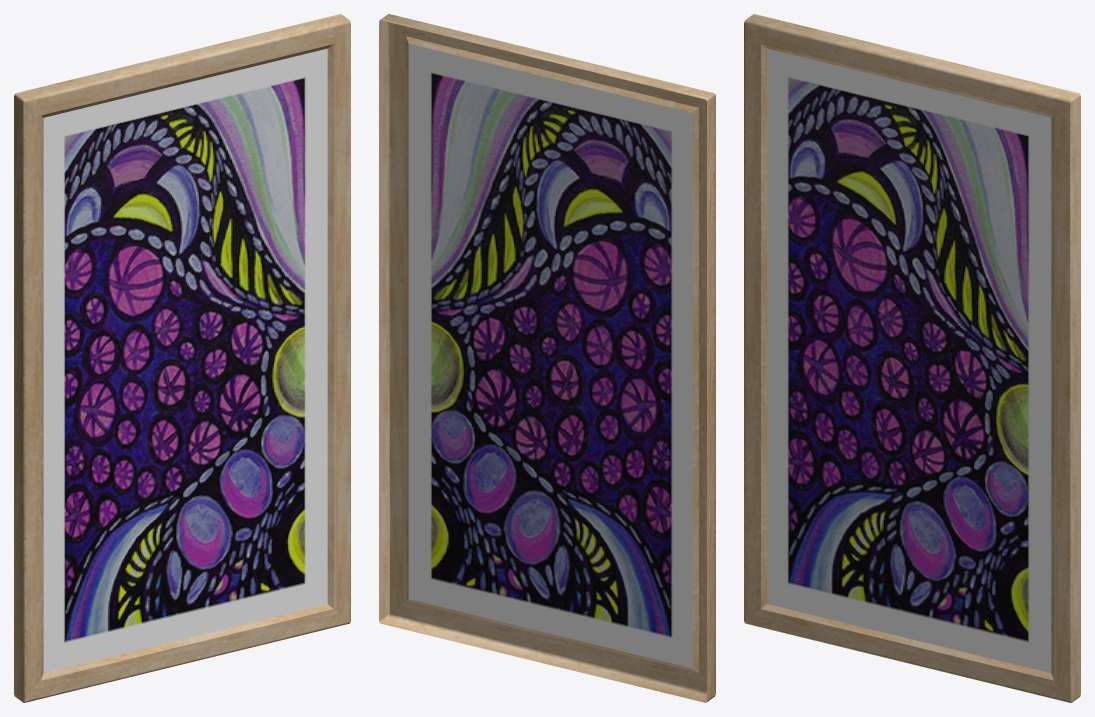
Rendered from paints3.FBX.
3 views of the same model, side by side, from view 1: azimuth 30°, elevation 25°; view 2: azimuth 150°, elevation 25°; view 3: azimuth 330°, elevation 25° (orthographic).
Visible parts, largest first — view 1: paints3; view 2: paints3; view 3: paints3.
Part boxes in pixels (x1,y1,x2,y2): paints3: (14, 14, 350, 702); paints3: (379, 14, 715, 702); paints3: (744, 14, 1080, 702).
Bounding box in the file's own units: 20.56 × 1.03 × 36.17.
